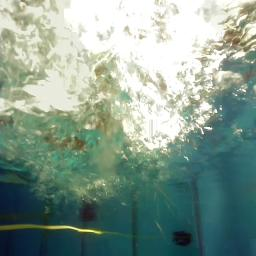Full: (78, 209, 96, 222)
Side: (172, 230, 192, 246)
